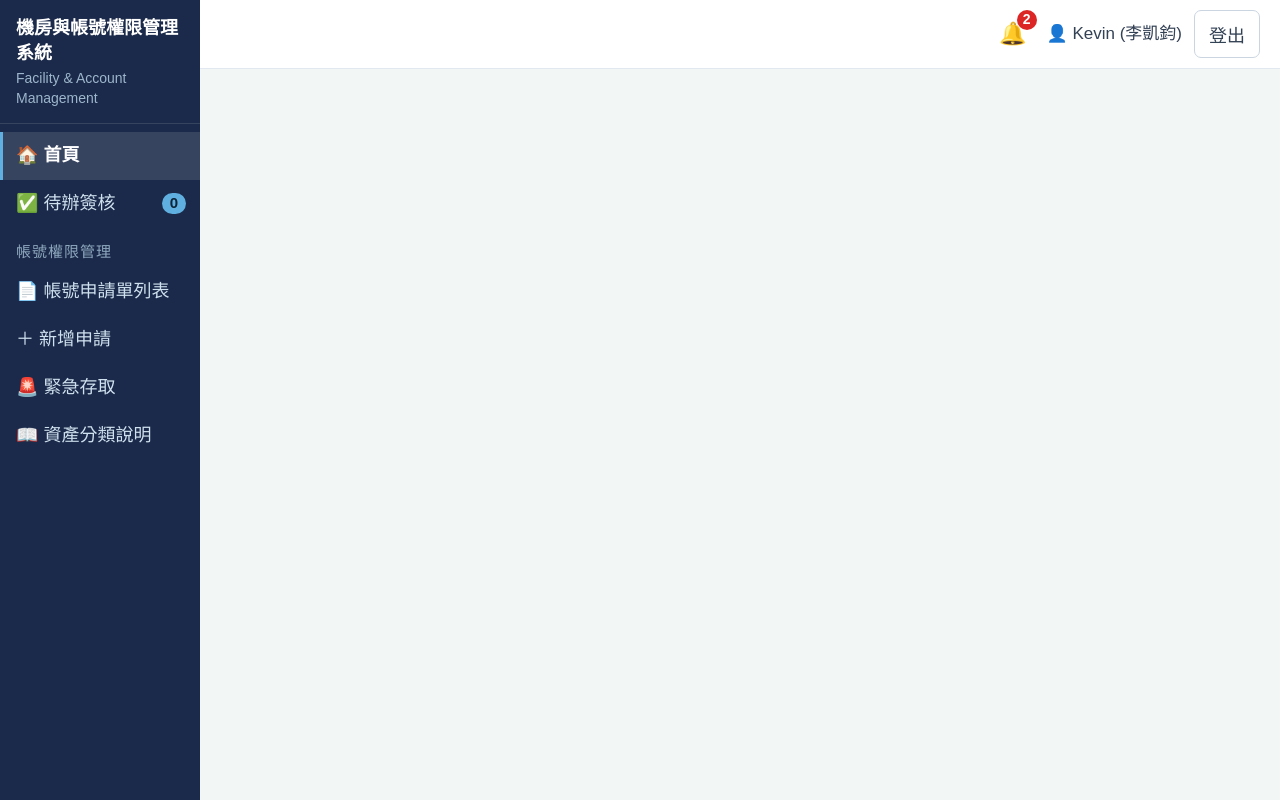
Test: AppLayout › 鈴鐺：無 ACC_LIST_FULL 點一筆開唯讀明細（不顯示異動按鈕）；無相關到期時沒有徽章
Expected: the text with class "bell-badge" reads "2", [1023,11,1030,27]
Click the button with class "bell-btn": (1013, 34) [991,10,1034,58]
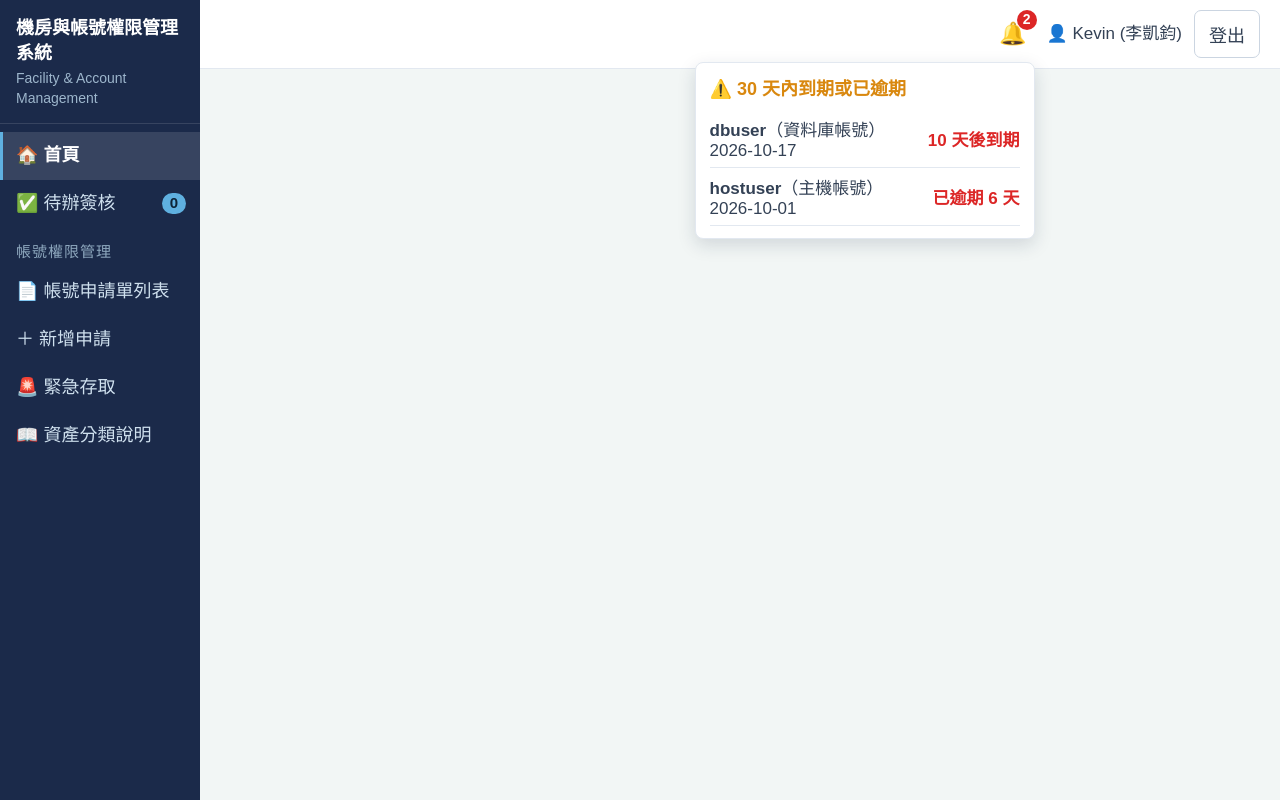
Result: the button with class "bell-item" shows "已逾期 6 天" at [710,168,1020,226]
Click the button with class "bell-item" that starts with "dbuser": (864, 139) [710,110,1020,168]
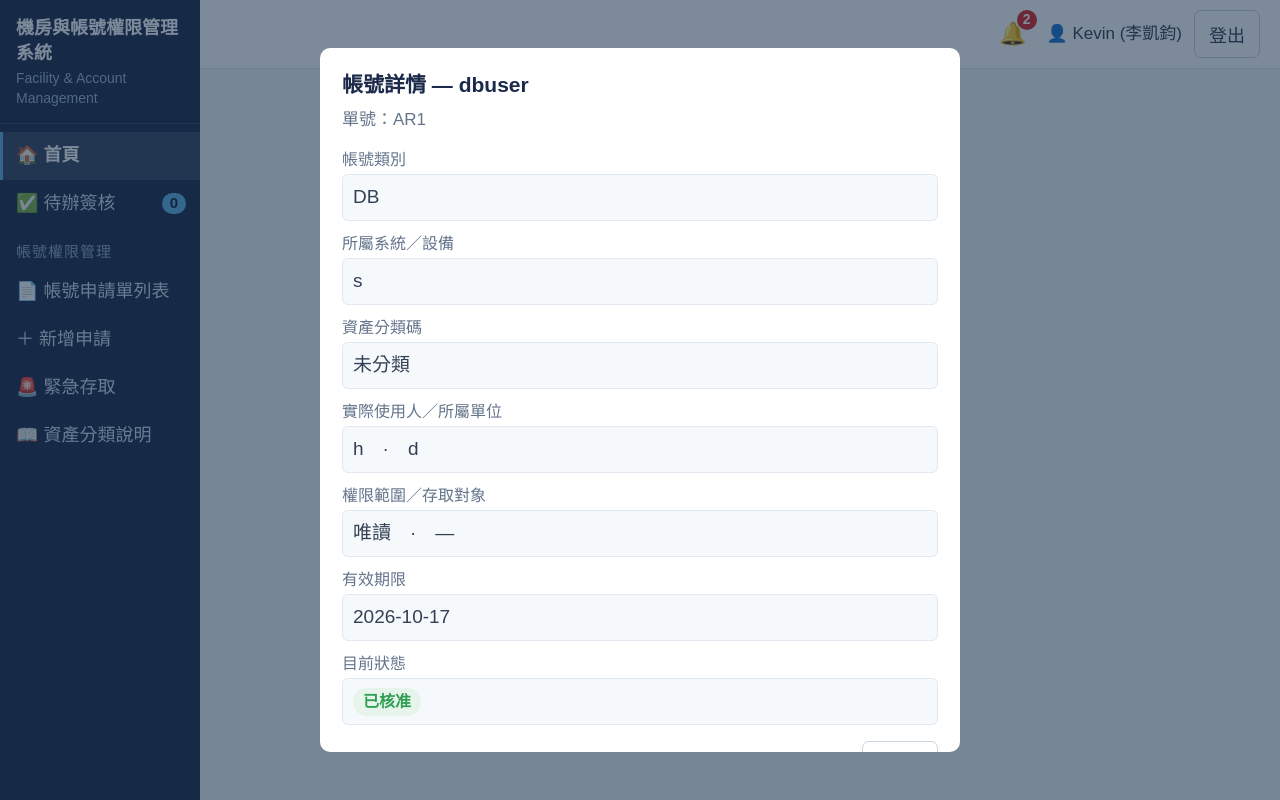
Result: the dialog with class "modal" shows "dbuser" at [342,73,529,96]
